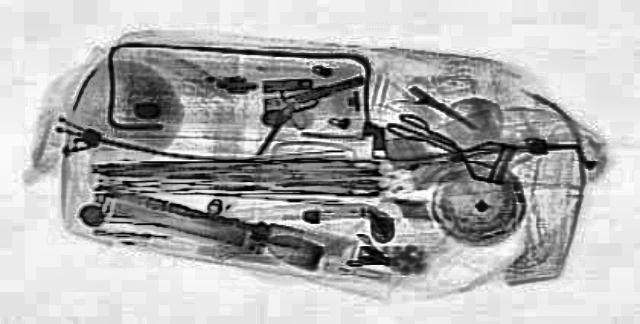Scissors: (376, 109, 472, 151)
